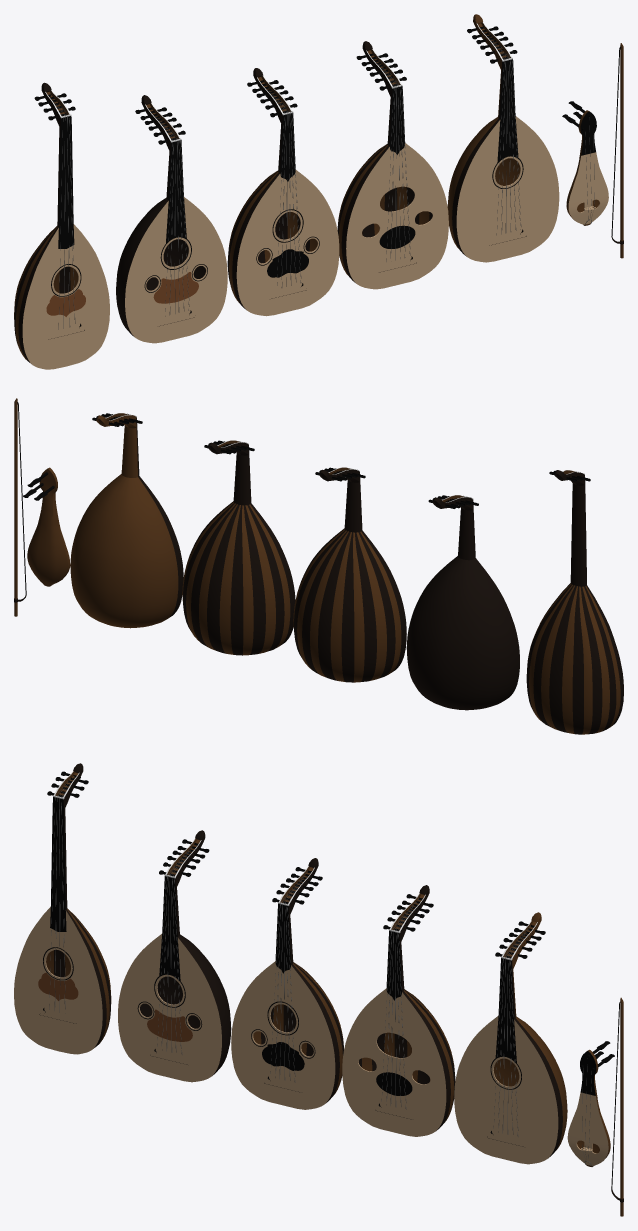
Rendered from karadenuz.glb.
The picture shows the model from 3 angles, top to bottom: view 1: azimuth 30°, elevation 25°; view 2: azimuth 150°, elevation 25°; view 3: azimuth 330°, elevation 25°; orthographic projection.
Parts seen in each view (by area): view 1: Base.001_22, Base.002_18, Base.004_4, Base.003_0, Base.005_14, Object_25, Bow_12, Strings.008_7, Strings.007_3, Strings.002_25, Srtings.001_21, Strings.009_17 (+4 smaller); view 2: Base.001_22, Base.002_18, Base.004_4, Base.003_0, Base.005_14, Object_25, Bow_12; view 3: Base.004_4, Base.003_0, Base.002_18, Base.001_22, Base.005_14, Object_25, Bow_12, Srtings.001_21, Strings.007_3, Strings.008_7, Strings.002_25, Strings.009_17.
Part boxes in pixels (x1,y1,x2,y2): Base.001_22: (227,68,339,316); Base.002_18: (116,95,227,343); Base.004_4: (447,14,559,262); Base.003_0: (337,41,448,289); Base.005_14: (14,82,109,369); Object_25: (562,101,608,225); Bow_12: (611,43,623,258); Strings.008_7: (488,37,521,235); Strings.007_3: (377,63,410,261); Strings.002_25: (265,88,301,287); Srtings.001_21: (157,118,189,316); Strings.009_17: (53,101,75,329); Base.001_22: (293,467,406,682); Base.002_18: (406,495,519,710); Base.004_4: (70,413,183,628); Base.003_0: (182,440,295,655); Base.005_14: (526,470,623,734); Object_25: (23,467,70,586); Bow_12: (14,398,26,616); Base.004_4: (454,912,567,1164); Base.003_0: (342,885,455,1136); Base.002_18: (118,830,231,1082); Base.001_22: (231,858,343,1109); Base.005_14: (14,763,111,1054); Object_25: (567,1041,614,1166); Bow_12: (611,997,623,1216); Srtings.001_21: (157,845,193,1054); Strings.007_3: (381,899,418,1109); Strings.008_7: (493,926,530,1136); Strings.002_25: (270,873,306,1082); Strings.009_17: (49,776,74,1013).
Bounding box in the file's own units: 2.42 × 1.13 × 0.2509.
